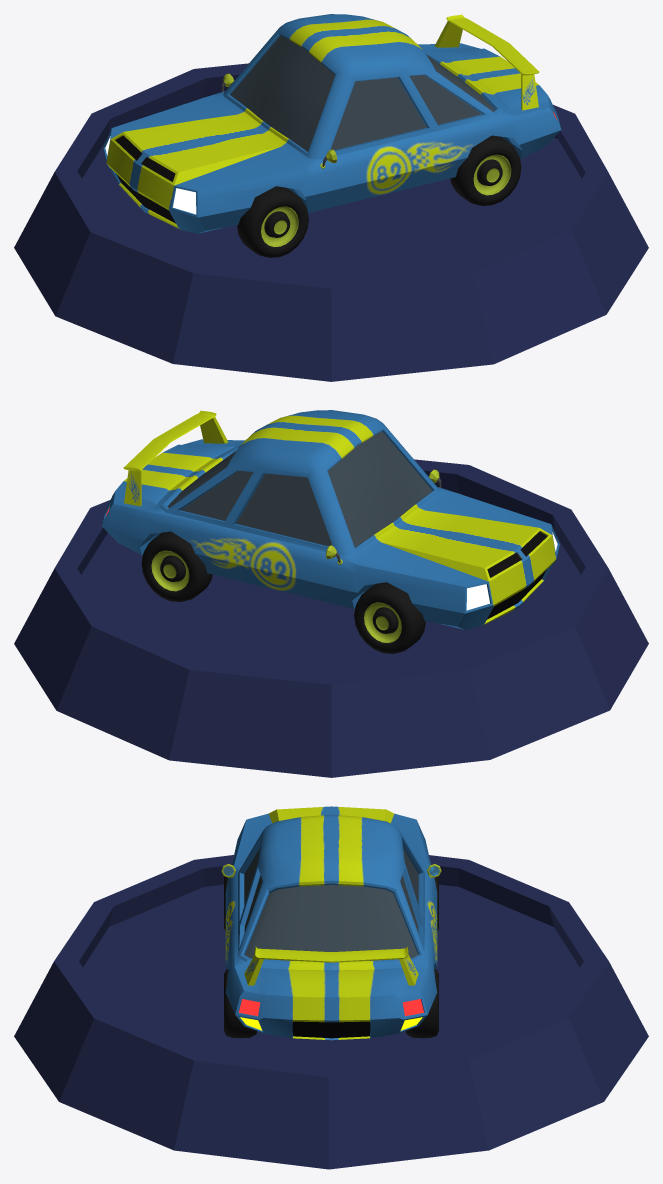
Rendered from Retro_race_car_-_Low_Poly_Game_Car_Model.glb.
The picture shows the model from 3 angles, top to bottom: view 1: azimuth 30°, elevation 25°; view 2: azimuth 150°, elevation 25°; view 3: azimuth 270°, elevation 25°; orthographic projection.
Parts seen in each view (by area): view 1: Cylinder.002_Material.002_0, Cube_Material.001_0, Cylinder_car vihels _0; view 2: Cylinder.002_Material.002_0, Cube_Material.001_0, Cylinder_car vihels _0; view 3: Cylinder.002_Material.002_0, Cube_Material.001_0, Cylinder_car vihels _0.
Boxes of the visible parts, x1,y1,x2,y2 form: Cylinder.002_Material.002_0: (14, 63, 648, 381); Cube_Material.001_0: (103, 14, 561, 233); Cylinder_car vihels _0: (237, 135, 521, 257); Cylinder.002_Material.002_0: (14, 459, 648, 777); Cube_Material.001_0: (101, 410, 559, 629); Cylinder_car vihels _0: (141, 531, 425, 653); Cylinder.002_Material.002_0: (14, 855, 648, 1169); Cube_Material.001_0: (221, 806, 441, 1040); Cylinder_car vihels _0: (224, 876, 438, 1038).
Bounding box in the file's own units: 5.65 × 2.1 × 5.65.
Materials: 3 (2 with a texture image).
